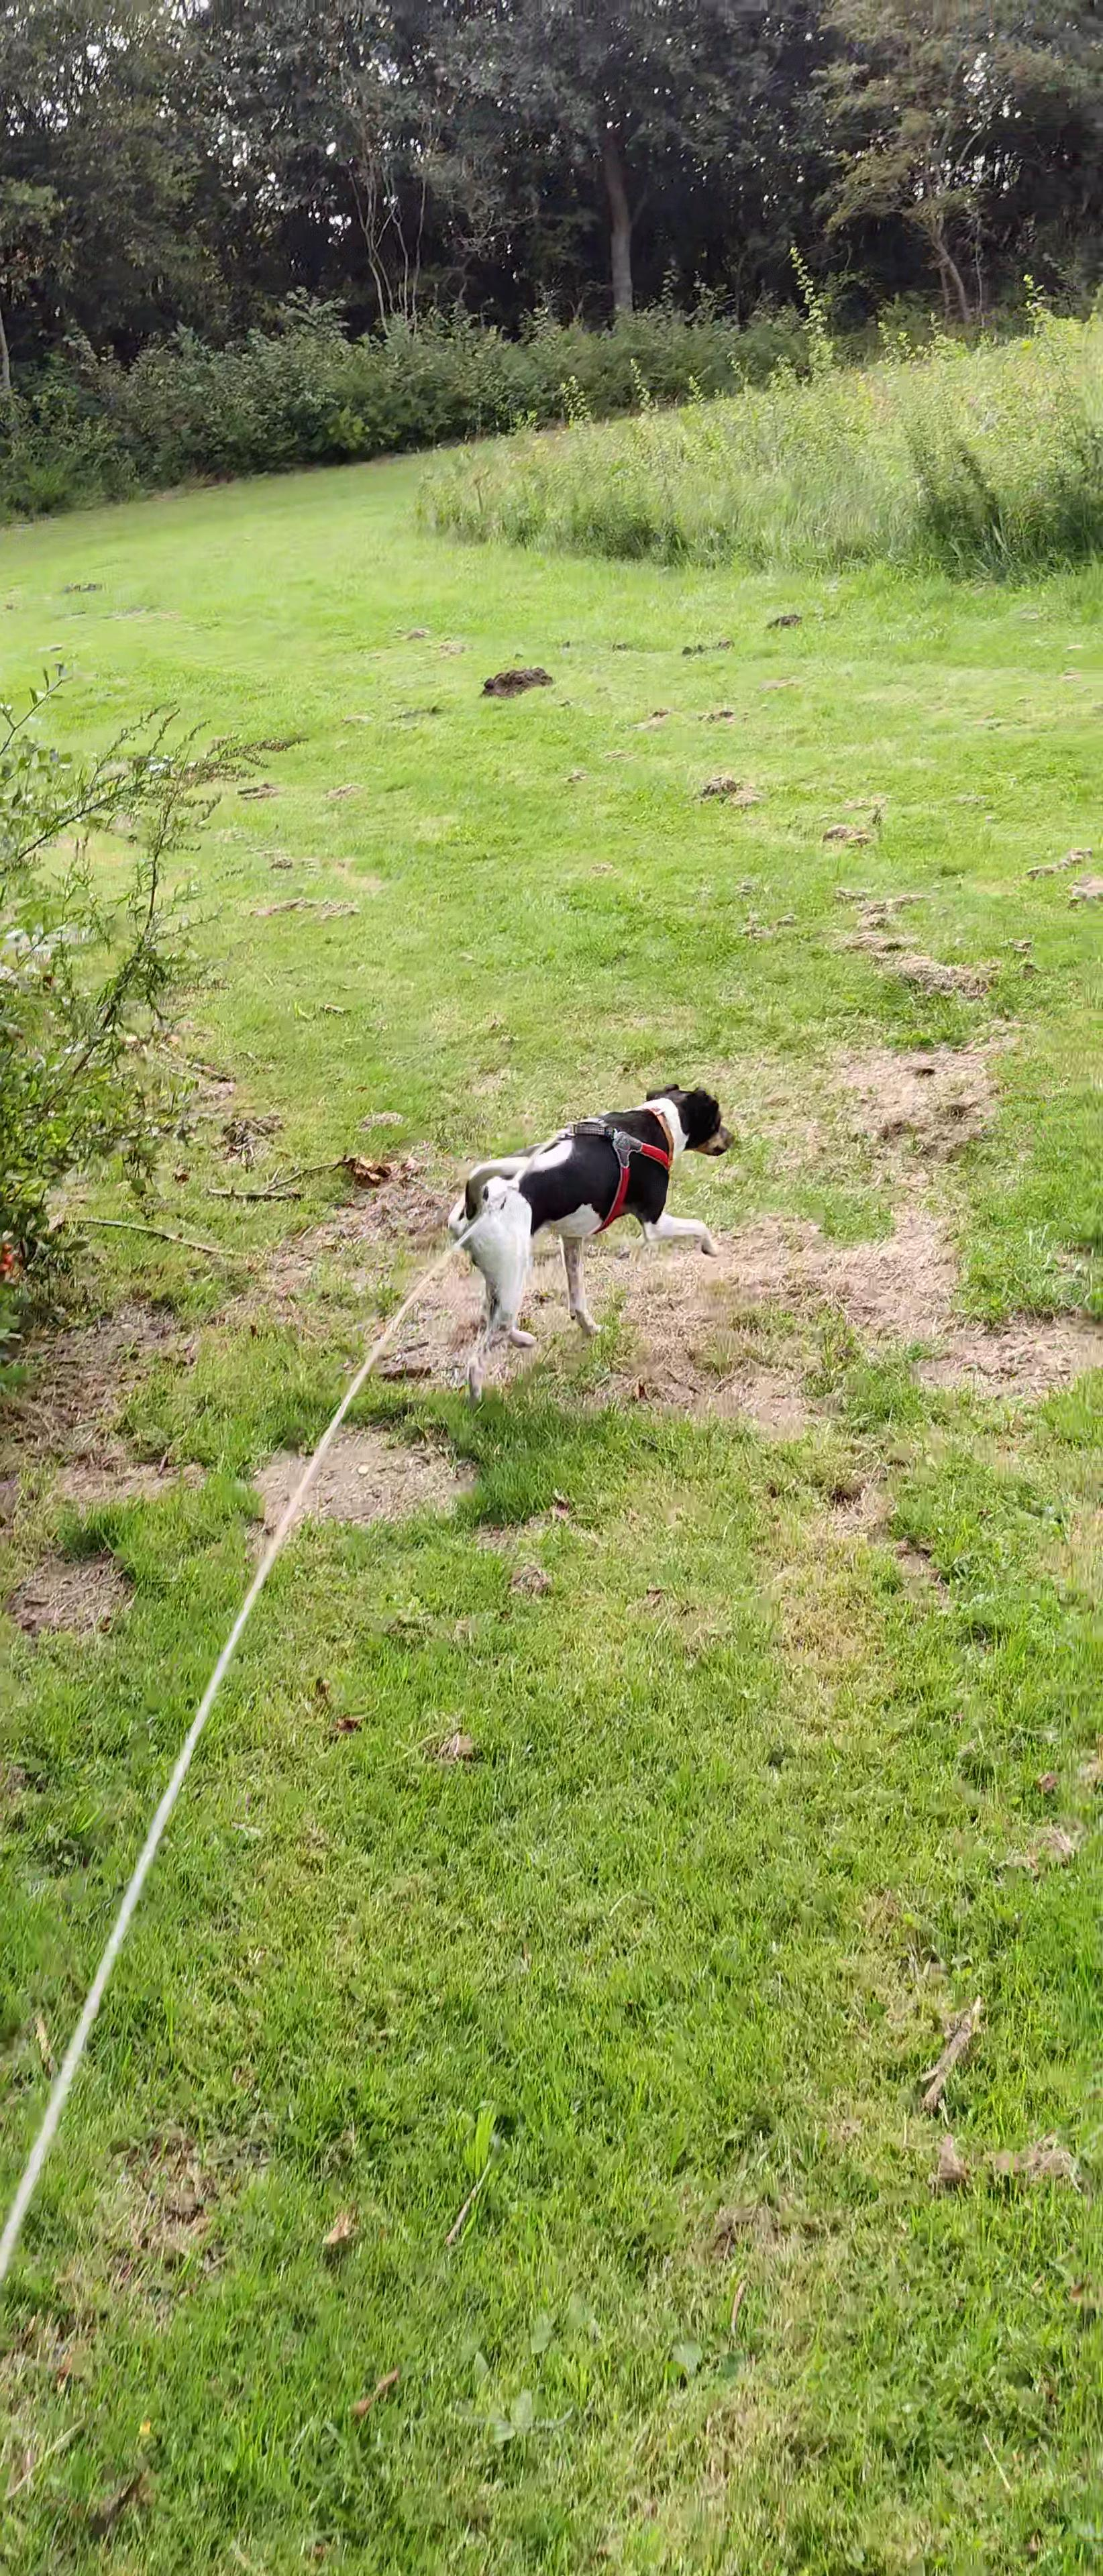Dog: (421, 1078, 753, 1408)
